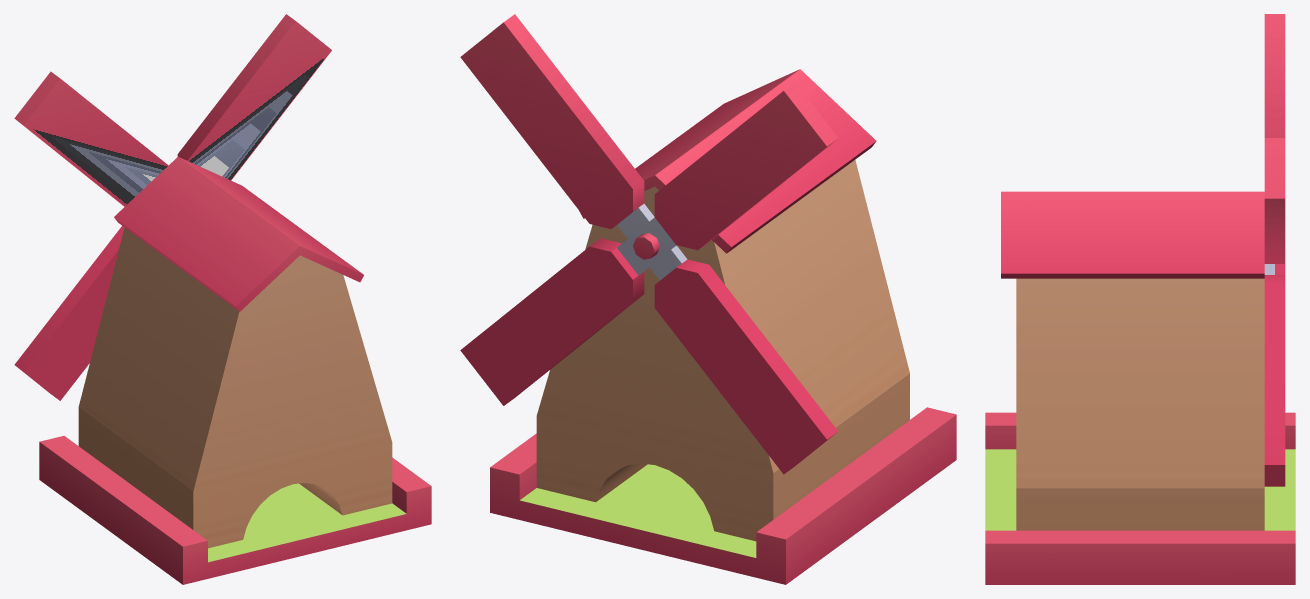
The model's file is windmill.gltf.
3 views of the same model, side by side, from view 1: azimuth 30°, elevation 25°; view 2: azimuth 150°, elevation 25°; view 3: azimuth 270°, elevation 25° (orthographic). The views are drawn at different scales.
Visible parts, largest first — view 1: windmill, blades; view 2: windmill, blades; view 3: windmill, blades.
Boxes of the visible parts, x1=… form: windmill: x1=39, y1=156, x2=431, y2=584; blades: x1=14, y1=14, x2=331, y2=400; windmill: x1=490, y1=69, x2=956, y2=584; blades: x1=460, y1=14, x2=838, y2=474; windmill: x1=985, y1=191, x2=1295, y2=584; blades: x1=1264, y1=14, x2=1285, y2=486.
Size of the model in its own units: 1.24 by 1.58 by 0.9999.
Materials: 1 (1 with a texture image).
